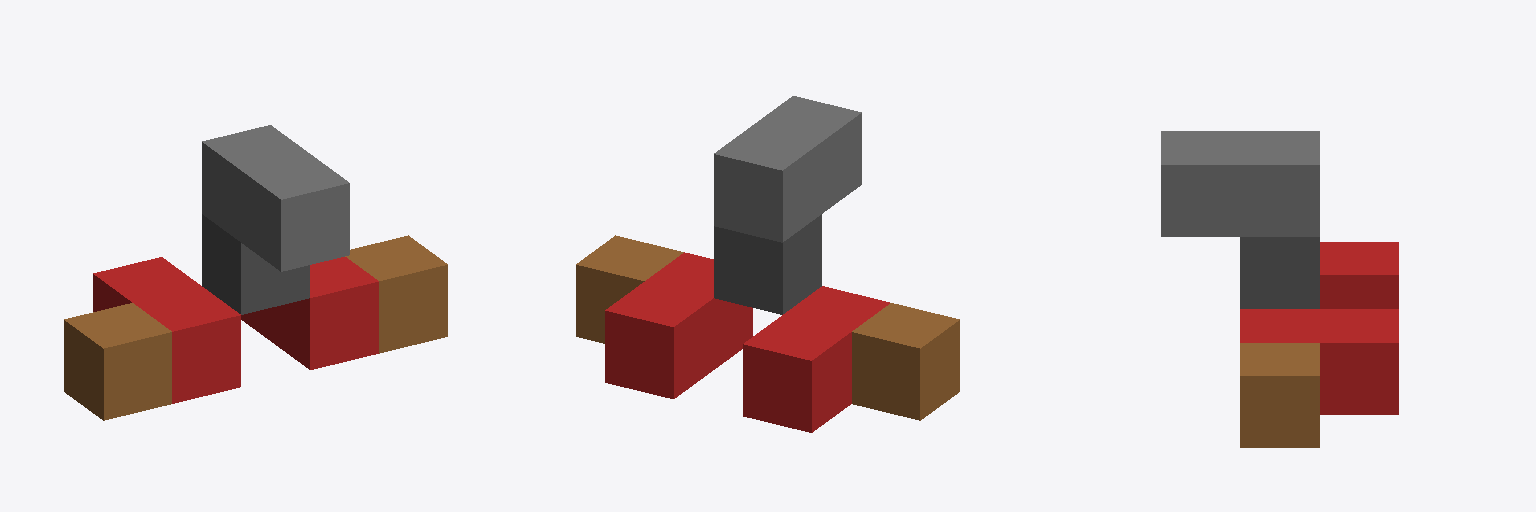
File: hadamard_gate.obj
3 renders of one model, left to right at view 1: azimuth 30°, elevation 25°; view 2: azimuth 150°, elevation 25°; view 3: azimuth 270°, elevation 25°, orthographic.
Bounding box in the file's own units: 5 × 3 × 3.